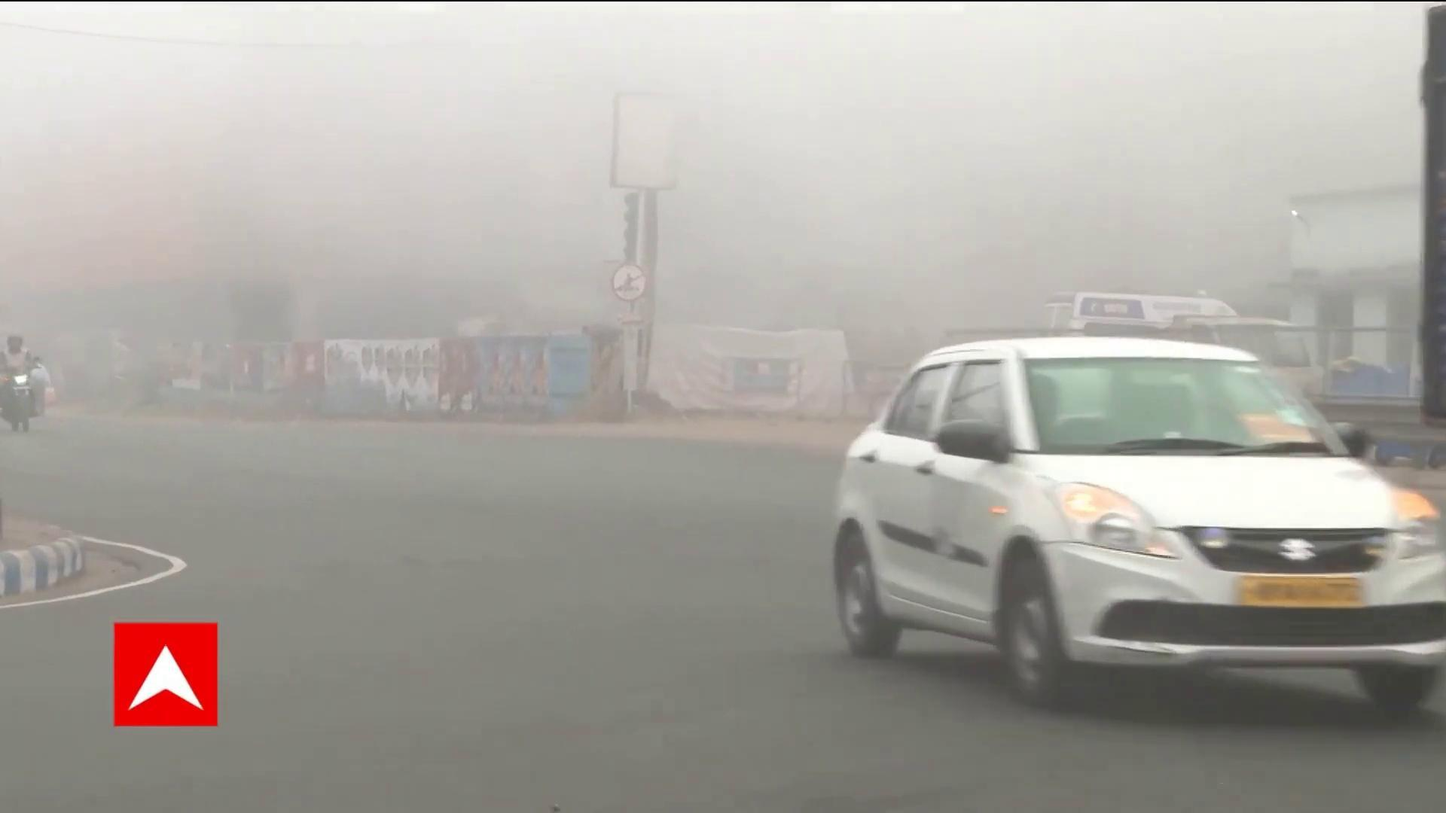Bike: (2, 321, 56, 446)
Car: (833, 334, 1446, 712)
